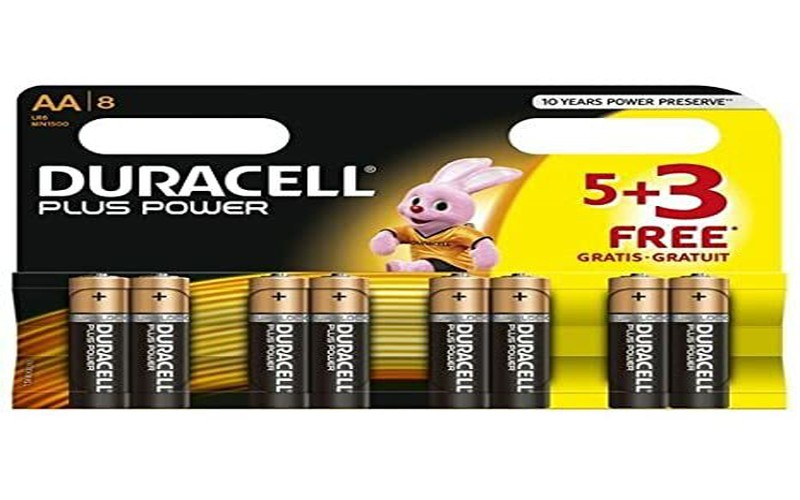Battery: (63, 256, 200, 412), (245, 256, 374, 412), (605, 264, 736, 409), (429, 270, 555, 414)
